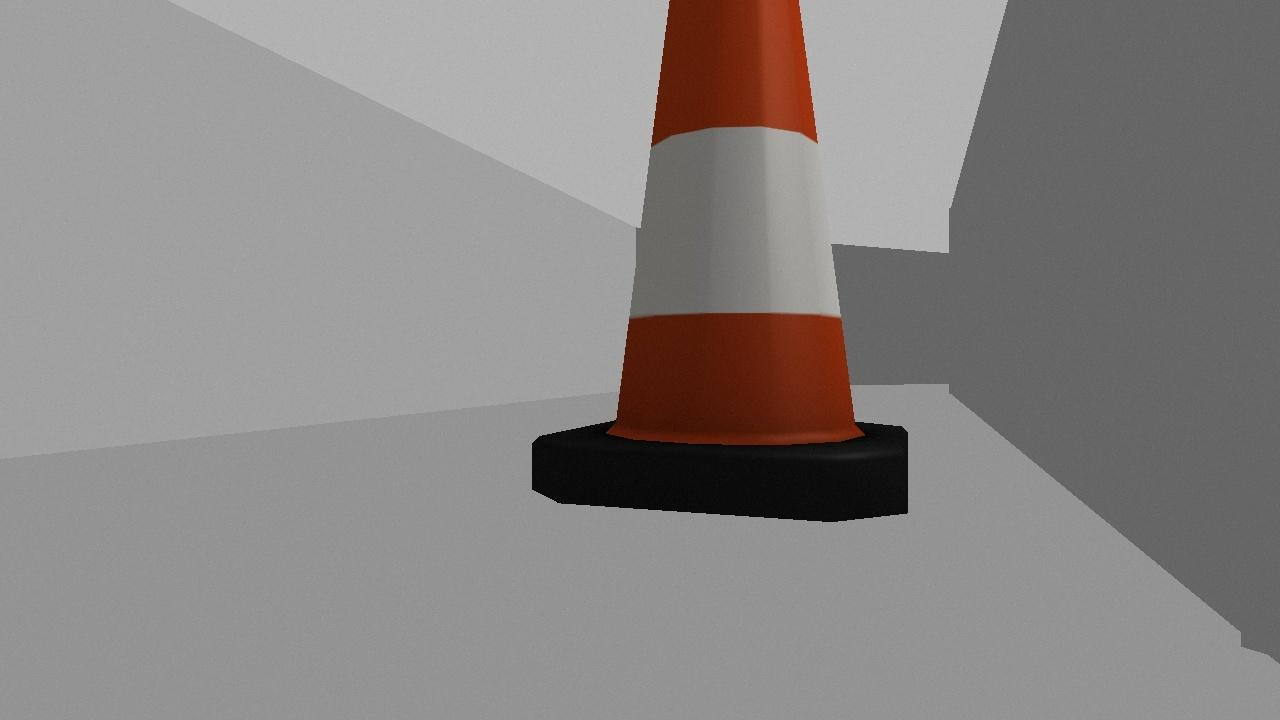cone_barrel: (532, 0, 908, 523)
